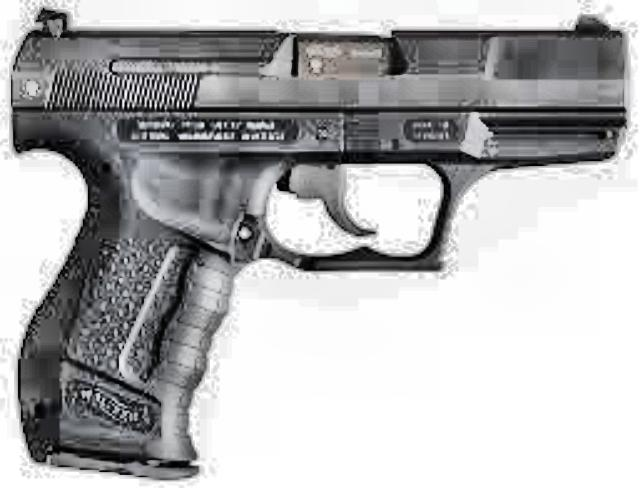pistol: (15, 7, 637, 481)
